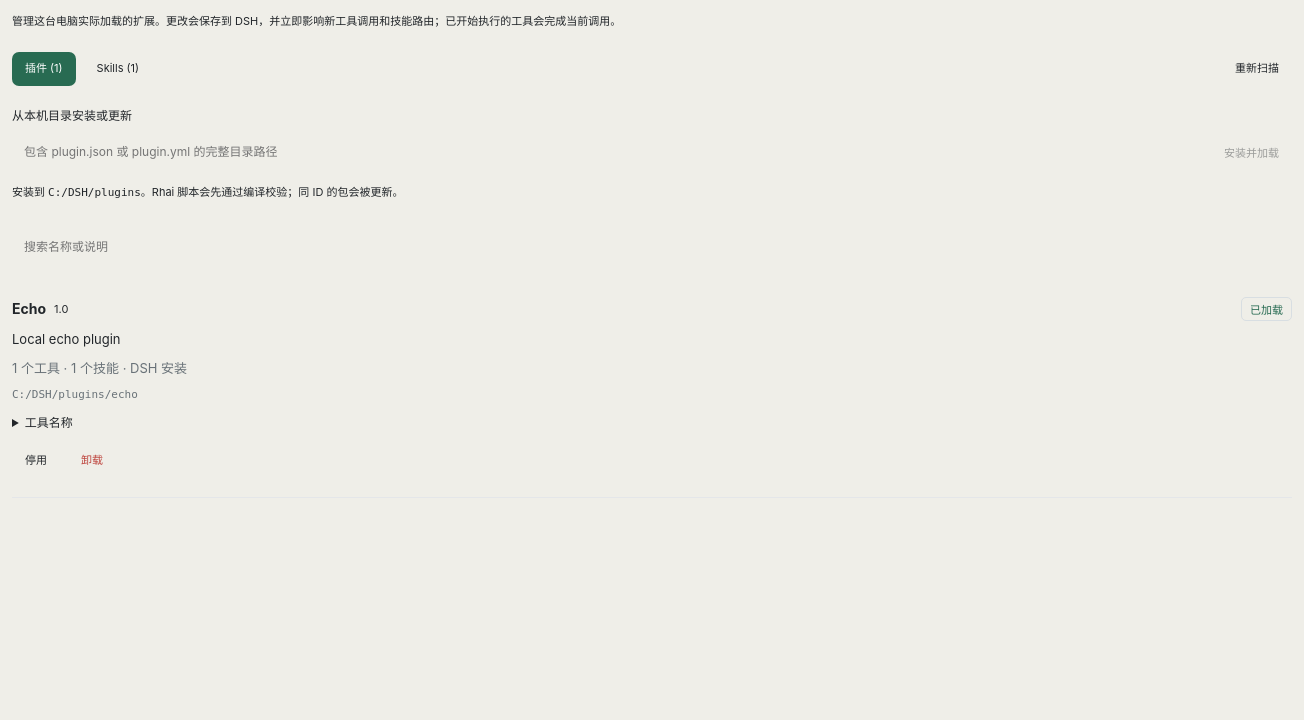
DSH extension management › uninstalls only after confirmation and refreshes from the returned registry
The image size is (1304, 720).
Click the button "卸载" at (92, 461), box [68,444,116,478]
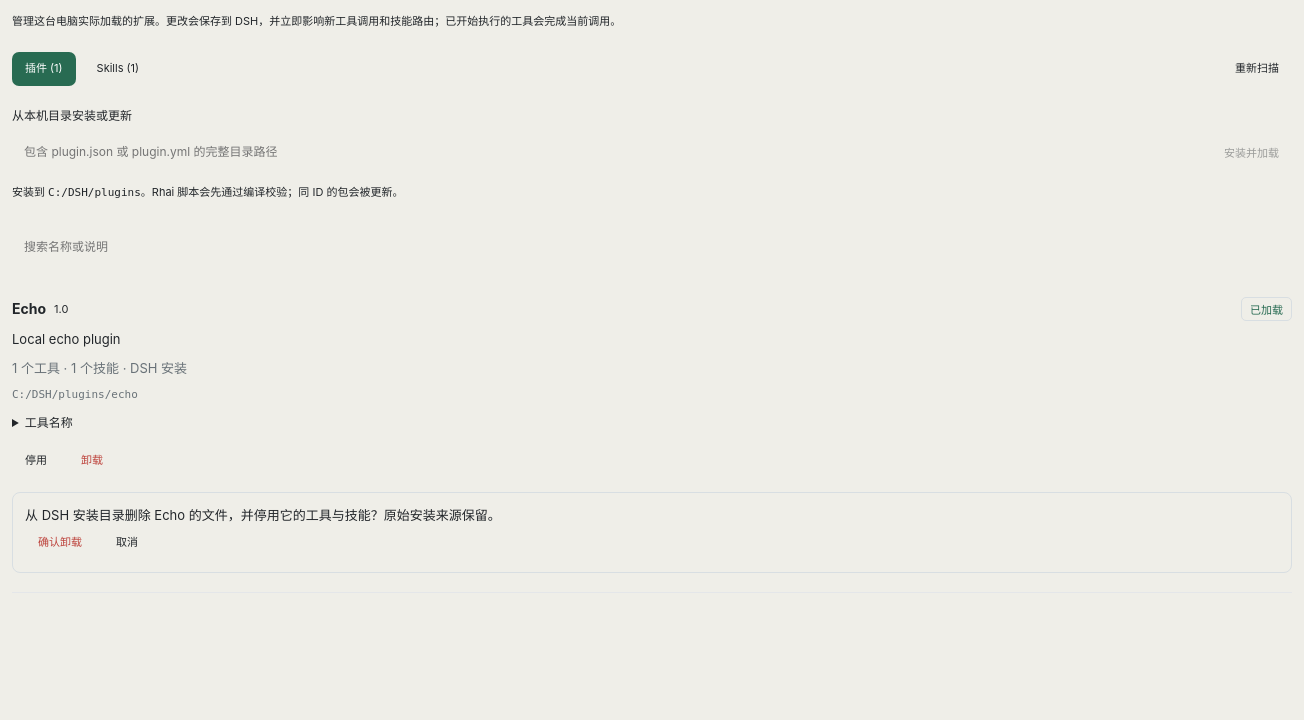
Click the button "取消" at (127, 543), box [103,526,151,560]
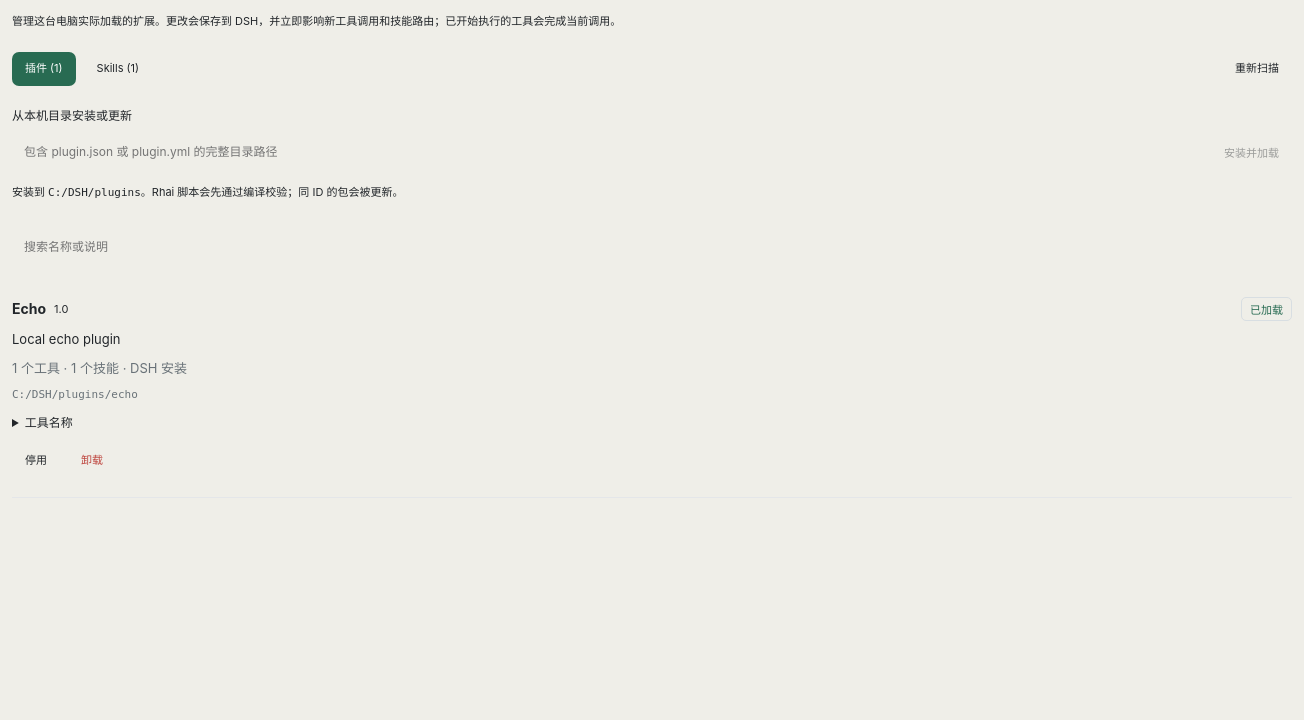
Click the button "卸载" at (92, 461), box [68,444,116,478]
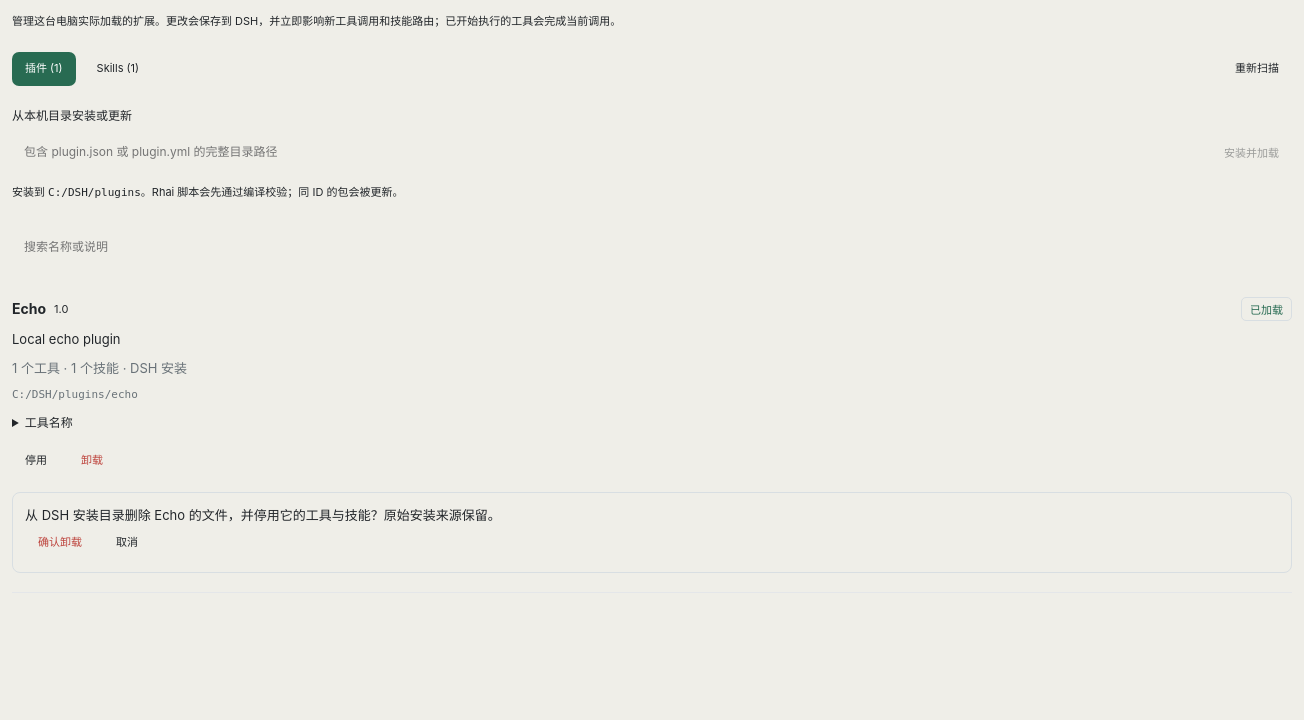
Click the button "确认卸载" at (60, 543), box [25,526,95,560]
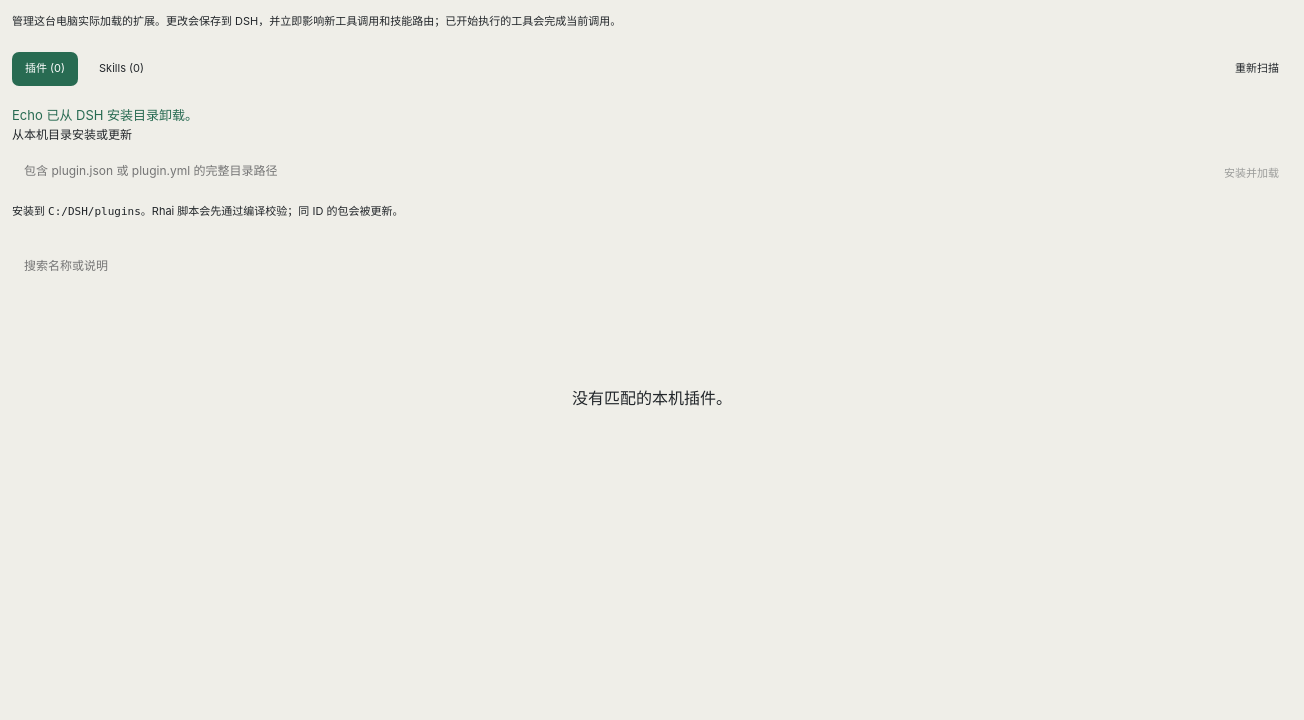
Now the text "没有匹配的本机插件。" is shown, box [572,388,732,408]
